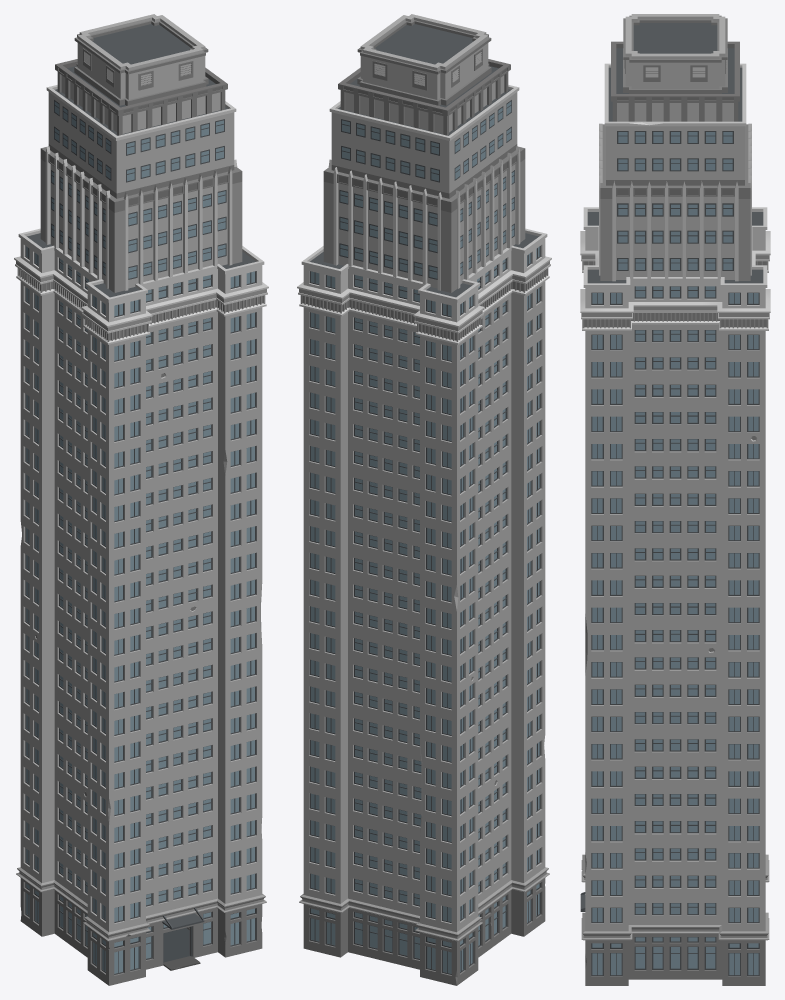
The model's file is SM_Buildings_Skyscraper_03.fbx.
3 renders of one model, left to right at view 1: azimuth 30°, elevation 25°; view 2: azimuth 150°, elevation 25°; view 3: azimuth 270°, elevation 25°, orthographic. The views are drawn at different scales.
Parts seen in each view (by area): view 1: SM_Buildings_Skyscraper_03; view 2: SM_Buildings_Skyscraper_03; view 3: SM_Buildings_Skyscraper_03.
Part boxes in pixels (x1=…): SM_Buildings_Skyscraper_03: x1=14, y1=14, x2=268, y2=985; SM_Buildings_Skyscraper_03: x1=297, y1=14, x2=551, y2=985; SM_Buildings_Skyscraper_03: x1=580, y1=14, x2=770, y2=985.
Size of the model in its own units: 15.81 by 83.62 by 15.81.
